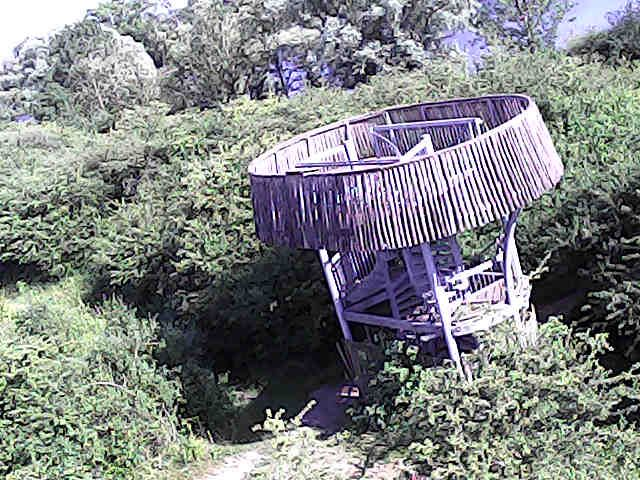tower: (249, 95, 562, 372)
